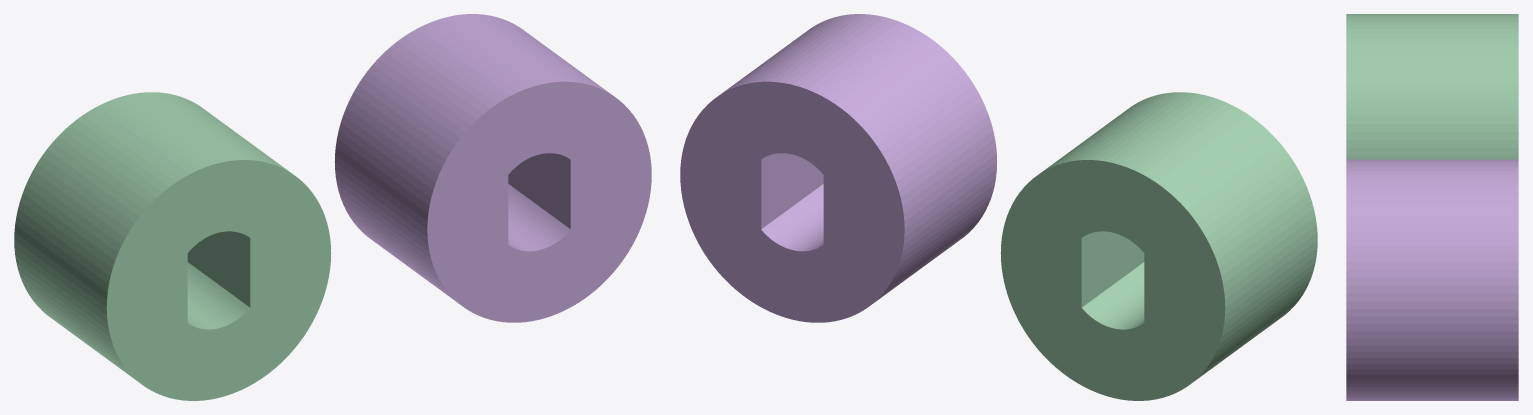
Rendered from dbore_demo.glb.
3 renders of one model, left to right at view 1: azimuth 30°, elevation 25°; view 2: azimuth 150°, elevation 25°; view 3: azimuth 270°, elevation 25°, orthographic. The views are drawn at different scales.
Parts seen in each view (by area): view 1: double_d_socket, double_d_hub; view 2: double_d_socket, double_d_hub; view 3: double_d_hub, double_d_socket.
Boxes of the visible parts, x1,y1,x2,y2 form: double_d_socket: [14, 92, 331, 400]; double_d_hub: [334, 14, 651, 322]; double_d_socket: [1000, 92, 1317, 400]; double_d_hub: [680, 14, 997, 322]; double_d_hub: [1346, 159, 1518, 400]; double_d_socket: [1346, 14, 1518, 159].
Bounding box in the file's own units: 34 × 14 × 10.
